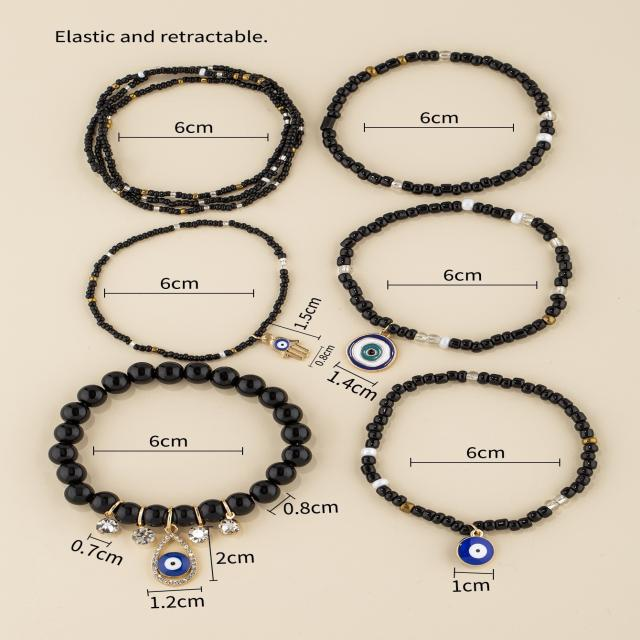bracelet: (35, 352, 348, 602), (347, 348, 636, 577), (318, 188, 616, 374), (308, 28, 582, 206), (70, 42, 328, 229), (62, 210, 308, 370)
